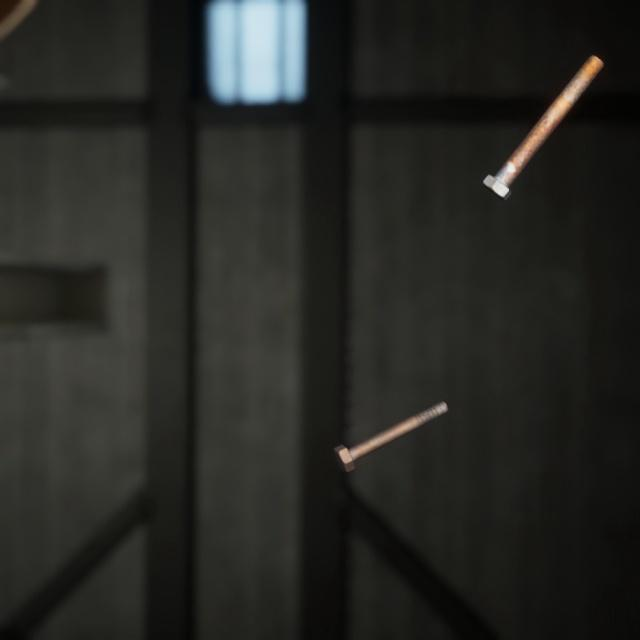bolt: (478, 38, 608, 192), (329, 377, 453, 457)
